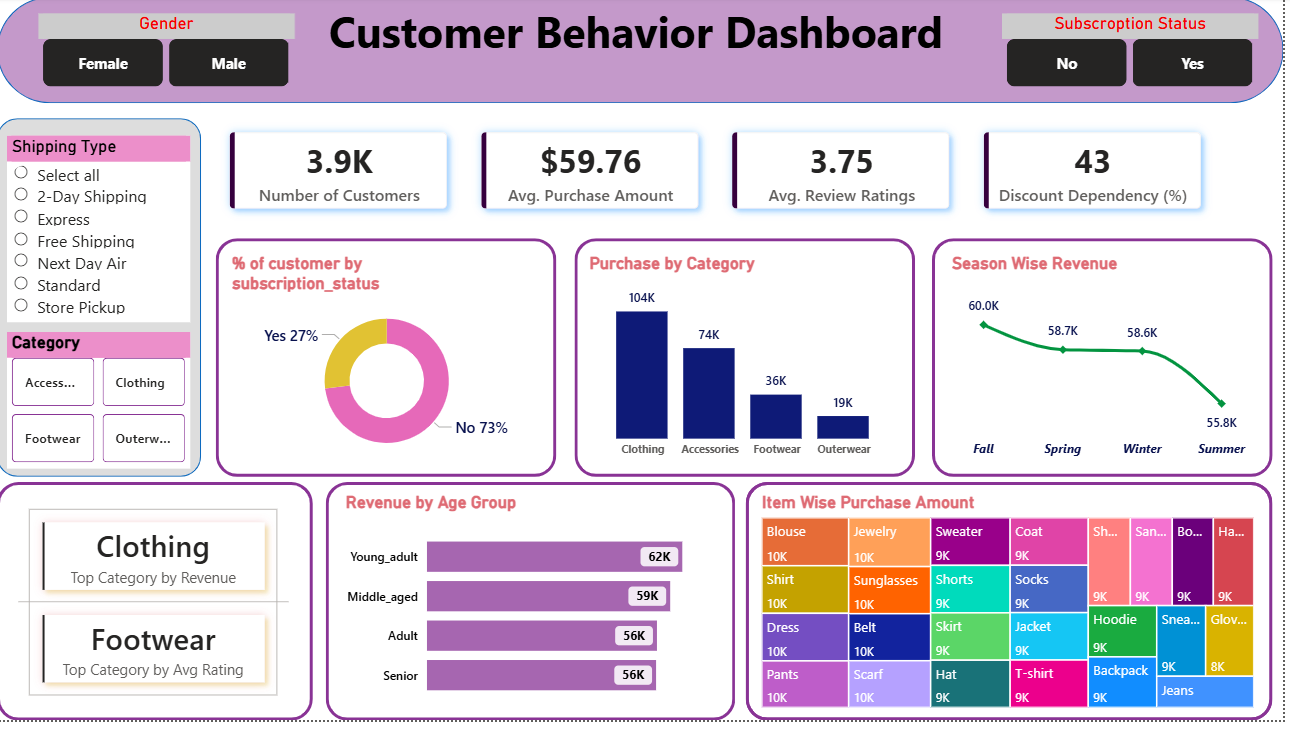

Layout of this report page (visuals, bound fields, positions):
{"tool":"powerbi","page":{"name":"Page 1","canvas":[1280,720],"ordinal":0},"visuals":[{"type":"shape","box":[0,0,1280.3,105.7],"z":0},{"type":"textbox","box":[41.2,0,1189.7,68.6],"z":1000},{"type":"cardVisual","fields":{"Data":["customer.Number of Customers","customer.Avg. Purchase Amount","customer.Avg. Review Ratings","customer.Discount Dependency (%)"]},"box":[203.1,105.7,1027.8,134.5],"z":2000},{"type":"shape","box":[930.4,240.1,338.9,237.4],"z":3000},{"type":"shape","box":[0,120.8,203.1,356.8],"z":4000},{"type":"shape","box":[575,240.1,338.9,237.4],"z":5000},{"type":"shape","box":[218.2,240.1,338.9,237.4],"z":6000},{"type":"donutChart","title":"% of  customer by subscription_status","fields":{"Category":["customer.subscription_status"],"Y":["CountNonNull(customer.customer_id)"]},"box":[229.2,255.2,318.4,212.7],"z":7000},{"type":"columnChart","title":"Purchase  by Category","fields":{"Y":["Sum(customer.purchase_amount)"],"Category":["customer.category"]},"box":[584.6,255.2,317,212.7],"z":8000},{"type":"lineChart","title":"Season Wise Revenue","fields":{"Category":["customer.season"],"Y":["Sum(customer.purchase_amount)"]},"box":[945.5,255.2,310.1,212.7],"z":9000},{"type":"shape","box":[745.1,483,524.2,237.4],"z":10000},{"type":"treemap","title":"Item Wise Purchase Amount ","fields":{"Values":["Sum(customer.purchase_amount)"],"Details":["customer.item_purchased"]},"box":[756.1,492.6,499.5,219.6],"z":11000},{"type":"shape","box":[745.1,482.6,524.2,237.4],"z":11001},{"type":"shape","box":[326.6,483,407.5,237.4],"z":11002},{"type":"clusteredBarChart","title":"Revenue by Age Group","fields":{"Category":["customer.age_group"],"Y":["Sum(customer.purchase_amount)"]},"box":[341.7,492.6,378.7,219.6],"z":11003},{"type":"shape","box":[0,483,314.2,237.4],"z":11004},{"type":"cardVisual","fields":{"Data":["customer.Top Category by Revenue","customer.Top Category by Avg Rating"]},"box":[15.1,492.6,281.3,219.6],"z":11005},{"type":"advancedSlicerVisual","title":"Gender","fields":{"Values":["customer.gender"]},"box":[41.2,16.5,255.2,78.2],"z":11006},{"type":"advancedSlicerVisual","title":"Subscroption Status ","fields":{"Values":["customer.subscription_status"]},"box":[1000.3,16.5,255.2,78.2],"z":11007},{"type":"listSlicer","title":"Shipping Type","fields":{"Values":["customer.shipping_type"]},"box":[9.6,138.6,182.5,185.2],"z":11008},{"type":"advancedSlicerVisual","title":"Category","fields":{"Values":["customer.category"]},"box":[9.6,333.4,182.5,136],"z":11009}]}

Visuals, with their boxes in screenshot pixels (x1, y1, x2, y2), scaled from the page's 1280x720 canvas onto the 1290x730 screenshot:
shape: region(0, 0, 1289, 107)
textbox: region(42, 0, 1241, 70)
cardVisual - customer.Number of Customers x customer.Avg. Purchase Amount: region(205, 107, 1241, 244)
shape: region(938, 243, 1279, 484)
shape: region(0, 122, 205, 484)
shape: region(579, 243, 921, 484)
shape: region(220, 243, 561, 484)
"% of  customer by subscription_status" donutChart: region(231, 259, 552, 474)
"Purchase  by Category" columnChart: region(589, 259, 909, 474)
"Season Wise Revenue" lineChart: region(953, 259, 1265, 474)
shape: region(751, 490, 1279, 729)
"Item Wise Purchase Amount " treemap: region(762, 499, 1265, 722)
shape: region(751, 489, 1279, 729)
shape: region(329, 490, 740, 729)
"Revenue by Age Group" clusteredBarChart: region(344, 499, 726, 722)
shape: region(0, 490, 317, 729)
cardVisual - customer.Top Category by Revenue x customer.Top Category by Avg Rating: region(15, 499, 299, 722)
"Gender" advancedSlicerVisual: region(42, 17, 299, 96)
"Subscroption Status " advancedSlicerVisual: region(1008, 17, 1265, 96)
"Shipping Type" listSlicer: region(10, 141, 194, 328)
"Category" advancedSlicerVisual: region(10, 338, 194, 476)
